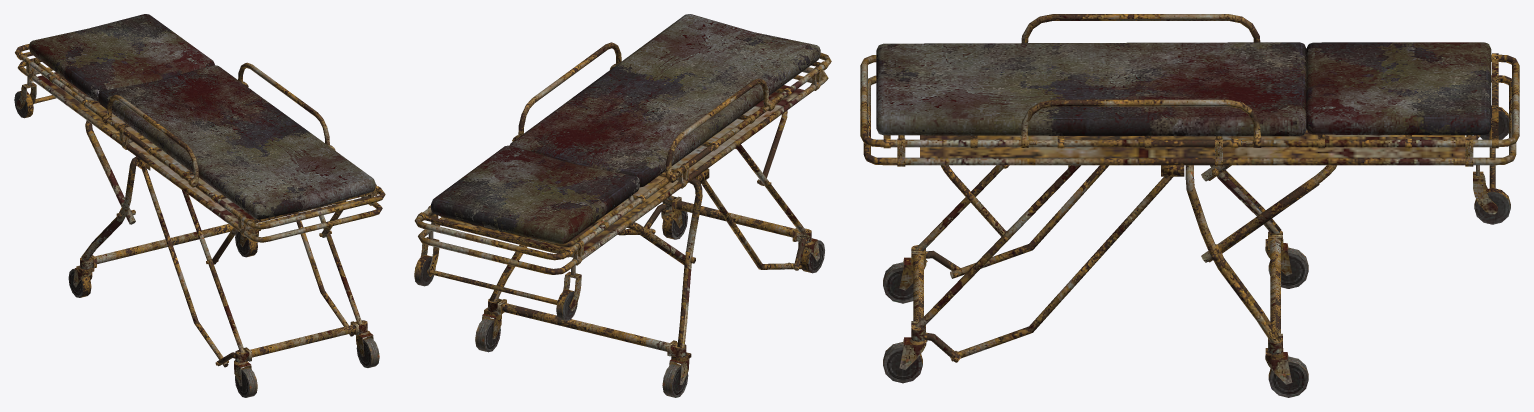
The model's file is stretcher01b.obj.
3 renders of one model, left to right at view 1: azimuth 30°, elevation 25°; view 2: azimuth 150°, elevation 25°; view 3: azimuth 270°, elevation 25°, orthographic. The views are drawn at different scales.
Parts seen in each view (by area): view 1: LODGroup_1_MainMesh_1_Submesh_1, LODGroup_1_MainMesh_7_Submesh_1, LODGroup_1_MainMesh_2_Submesh_1, LODGroup_1_MainMesh_3_Submesh_1, LODGroup_1_MainMesh_5_Submesh_1, LODGroup_1_MainMesh_4_Submesh_1; view 2: LODGroup_1_MainMesh_1_Submesh_1, LODGroup_1_MainMesh_7_Submesh_1, LODGroup_1_MainMesh_3_Submesh_1, LODGroup_1_MainMesh_2_Submesh_1, LODGroup_1_MainMesh_4_Submesh_1; view 3: LODGroup_1_MainMesh_1_Submesh_1, LODGroup_1_MainMesh_7_Submesh_1, LODGroup_1_MainMesh_4_Submesh_1, LODGroup_1_MainMesh_2_Submesh_1, LODGroup_1_MainMesh_3_Submesh_1, LODGroup_1_MainMesh_5_Submesh_1, LODGroup_1_MainMesh_6_Submesh_1.
Part boxes in pixels (x1,y1,x2,y2): LODGroup_1_MainMesh_1_Submesh_1: (14, 14, 385, 397); LODGroup_1_MainMesh_7_Submesh_1: (159, 65, 369, 207); LODGroup_1_MainMesh_2_Submesh_1: (20, 55, 143, 152); LODGroup_1_MainMesh_3_Submesh_1: (131, 143, 379, 235); LODGroup_1_MainMesh_5_Submesh_1: (92, 106, 215, 193); LODGroup_1_MainMesh_4_Submesh_1: (32, 72, 102, 110); LODGroup_1_MainMesh_1_Submesh_1: (414, 14, 831, 397); LODGroup_1_MainMesh_7_Submesh_1: (514, 14, 811, 173); LODGroup_1_MainMesh_3_Submesh_1: (691, 64, 823, 179); LODGroup_1_MainMesh_2_Submesh_1: (424, 149, 708, 269); LODGroup_1_MainMesh_4_Submesh_1: (445, 214, 630, 258); LODGroup_1_MainMesh_1_Submesh_1: (860, 14, 1519, 397); LODGroup_1_MainMesh_7_Submesh_1: (878, 43, 1304, 117); LODGroup_1_MainMesh_4_Submesh_1: (1255, 129, 1465, 161); LODGroup_1_MainMesh_2_Submesh_1: (1131, 56, 1494, 165); LODGroup_1_MainMesh_3_Submesh_1: (882, 139, 1184, 165); LODGroup_1_MainMesh_5_Submesh_1: (1080, 136, 1294, 157); LODGroup_1_MainMesh_6_Submesh_1: (920, 135, 1125, 157).
Size of the model in its own units: 96.4 by 109 by 229.
Materials: 1 (1 with a texture image).
